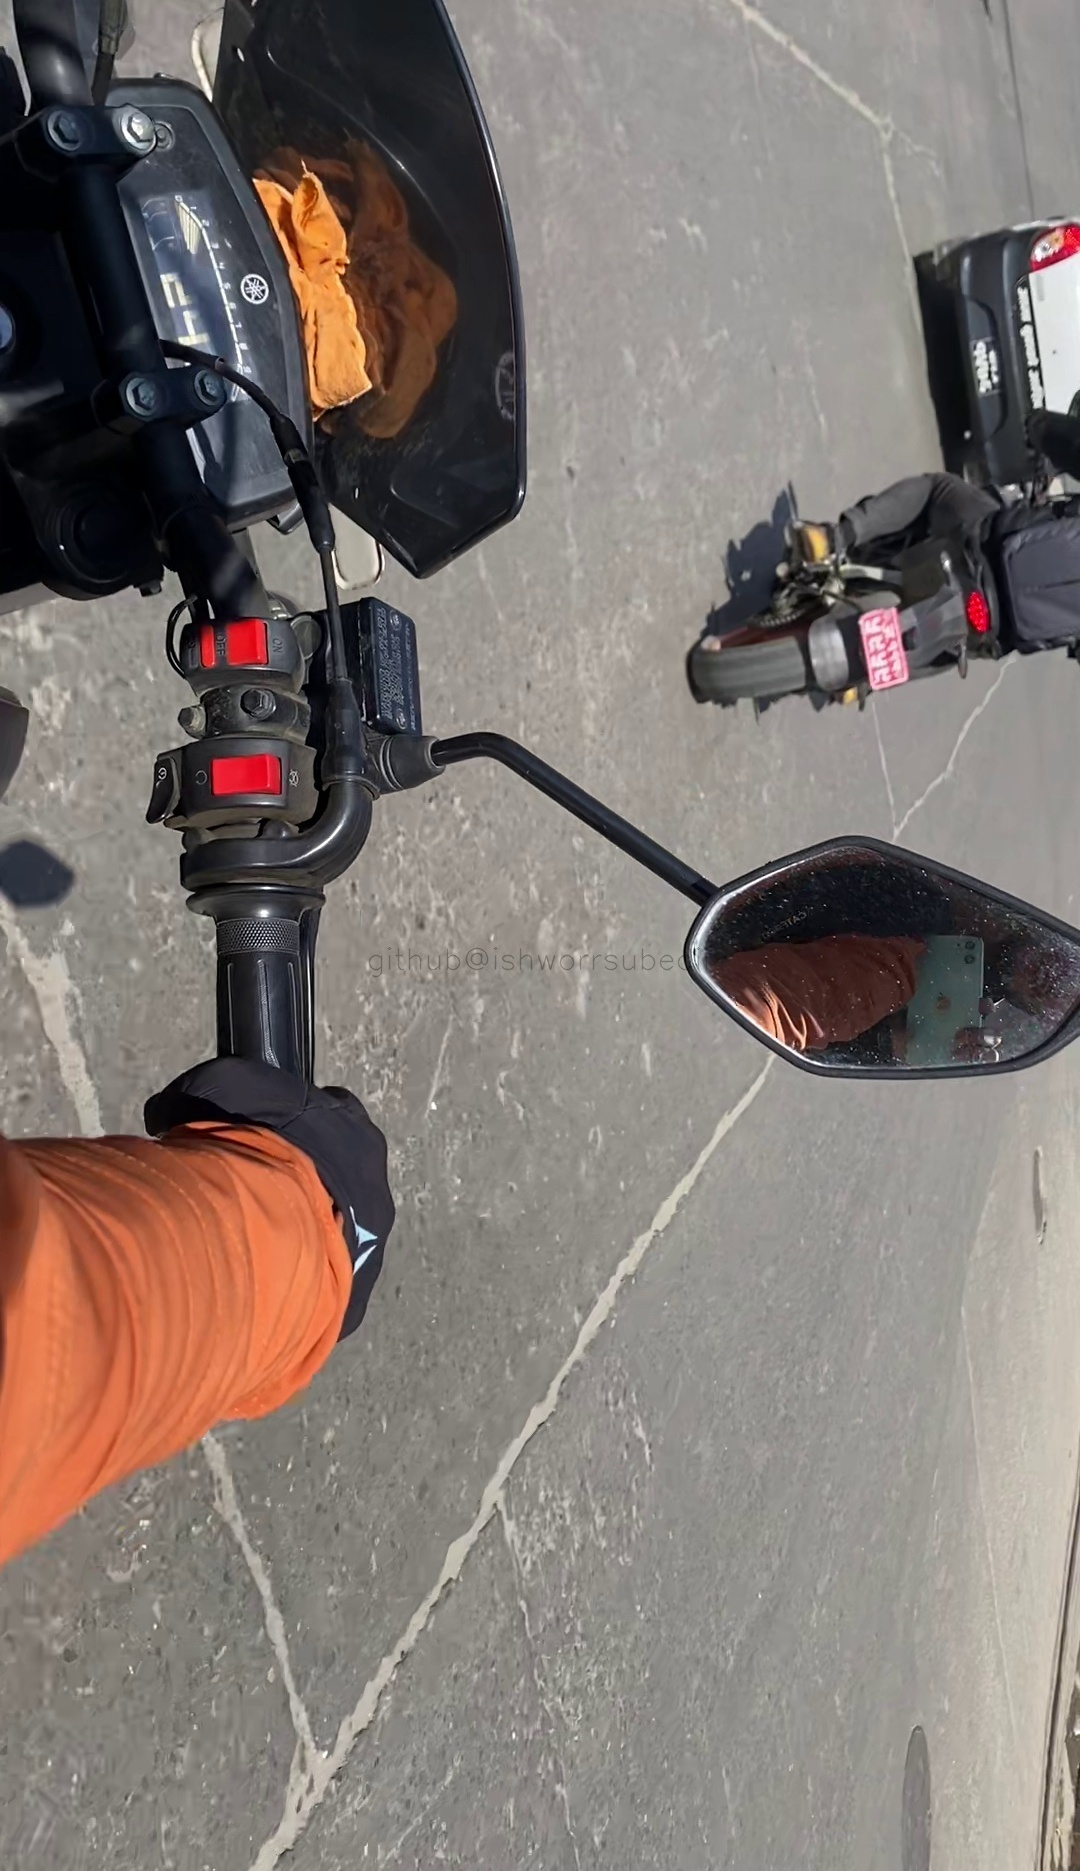license_plate: (857, 610, 908, 687)
